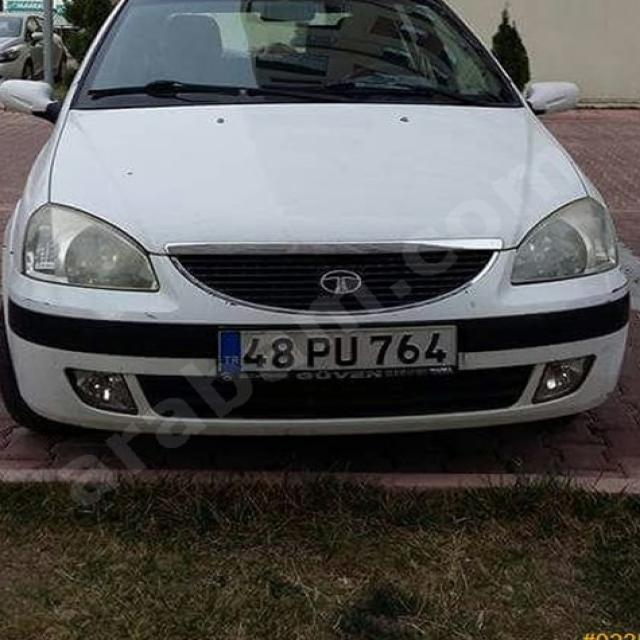license_plate: (217, 325, 458, 370)
